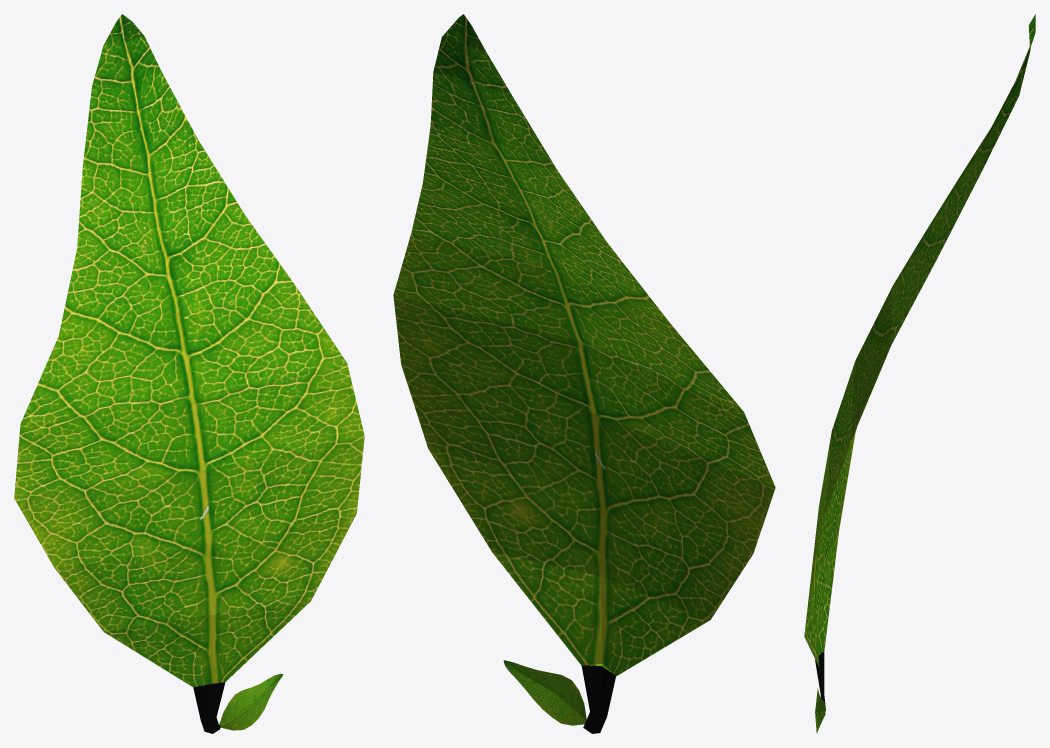
The model's file is Parts_Of_Leaf.glb.
The picture shows the model from 3 angles, left to right: view 1: azimuth 30°, elevation 25°; view 2: azimuth 150°, elevation 25°; view 3: azimuth 270°, elevation 25°; orthographic projection. The views are drawn at different scales.
Visible parts, largest first — view 1: Plane, Plane.001; view 2: Plane, Plane.001; view 3: Plane.
Boxes of the visible parts, x1=… form: Plane: x1=14, y1=14, x2=364, y2=733; Plane.001: x1=215, y1=674, x2=283, y2=730; Plane: x1=393, y1=14, x2=775, y2=733; Plane.001: x1=503, y1=660, x2=590, y2=727; Plane: x1=804, y1=14, x2=1035, y2=711.
Size of the model in its own units: 4.87 by 9.27 by 2.75.
Materials: 2 (2 with a texture image).
